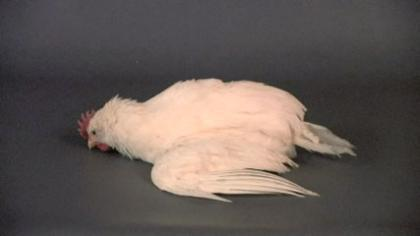AbNormal: (76, 78, 359, 202)
